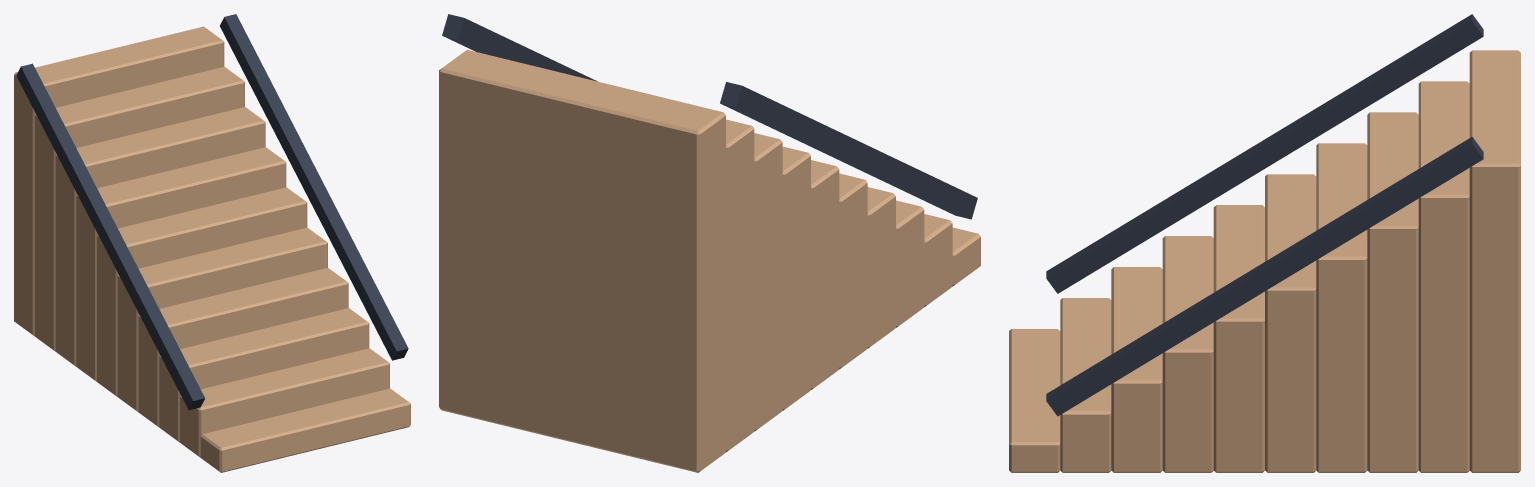
The model's file is terrace_stairs2.glb.
The picture shows the model from 3 angles, left to right: view 1: azimuth 30°, elevation 25°; view 2: azimuth 150°, elevation 25°; view 3: azimuth 270°, elevation 25°; orthographic projection. The views are drawn at different scales.
Visible parts, largest first — view 1: terrace_stairs_s9, terrace_stairs_s8, terrace_stairs_s7, terrace_stairs_s6, terrace_stairs_s5, terrace_stairs_s4, terrace_stairs_s3, terrace_stairs_s1, terrace_stairs_s2, terrace_stairs, terrace_stairs_side_l, terrace_stairs_side_r; view 2: terrace_stairs_s9, terrace_stairs_s8, terrace_stairs_s7, terrace_stairs_s6, terrace_stairs_side_l, terrace_stairs_s5, terrace_stairs_s4, terrace_stairs_s3, terrace_stairs_s2, terrace_stairs_side_r, terrace_stairs_s1, terrace_stairs; view 3: terrace_stairs_s9, terrace_stairs_s8, terrace_stairs_s7, terrace_stairs_s6, terrace_stairs_s5, terrace_stairs_side_l, terrace_stairs_side_r, terrace_stairs_s4, terrace_stairs_s3, terrace_stairs_s2, terrace_stairs_s1, terrace_stairs.
Part boxes in pixels (x1,y1,x2,y2): terrace_stairs_s9: [14, 26, 224, 336]; terrace_stairs_s8: [35, 66, 244, 351]; terrace_stairs_s7: [55, 107, 265, 366]; terrace_stairs_s6: [76, 147, 286, 381]; terrace_stairs_s5: [97, 187, 307, 396]; terrace_stairs_s4: [117, 227, 327, 412]; terrace_stairs_s3: [138, 268, 348, 426]; terrace_stairs_s1: [180, 348, 389, 457]; terrace_stairs_s2: [159, 308, 369, 442]; terrace_stairs: [200, 388, 410, 472]; terrace_stairs_side_l: [16, 63, 205, 409]; terrace_stairs_side_r: [220, 14, 408, 360]; terrace_stairs_s9: [439, 49, 725, 472]; terrace_stairs_s8: [726, 119, 754, 452]; terrace_stairs_s7: [754, 133, 782, 431]; terrace_stairs_s6: [782, 146, 810, 410]; terrace_stairs_side_l: [720, 82, 977, 219]; terrace_stairs_s5: [811, 160, 839, 389]; terrace_stairs_s4: [839, 173, 867, 369]; terrace_stairs_s3: [867, 187, 895, 348]; terrace_stairs_s2: [896, 200, 924, 327]; terrace_stairs_side_r: [442, 14, 597, 81]; terrace_stairs_s1: [924, 214, 952, 306]; terrace_stairs: [952, 227, 980, 286]; terrace_stairs_s9: [1469, 50, 1520, 472]; terrace_stairs_s8: [1418, 81, 1469, 472]; terrace_stairs_s7: [1367, 112, 1418, 472]; terrace_stairs_s6: [1316, 143, 1367, 472]; terrace_stairs_s5: [1265, 174, 1316, 472]; terrace_stairs_side_l: [1046, 14, 1483, 293]; terrace_stairs_side_r: [1046, 137, 1483, 416]; terrace_stairs_s4: [1213, 205, 1264, 472]; terrace_stairs_s3: [1162, 236, 1213, 472]; terrace_stairs_s2: [1111, 267, 1162, 472]; terrace_stairs_s1: [1060, 298, 1111, 472]; terrace_stairs: [1009, 329, 1060, 472].
Bounding box in the file's own units: 1.8 × 2.18 × 3.
